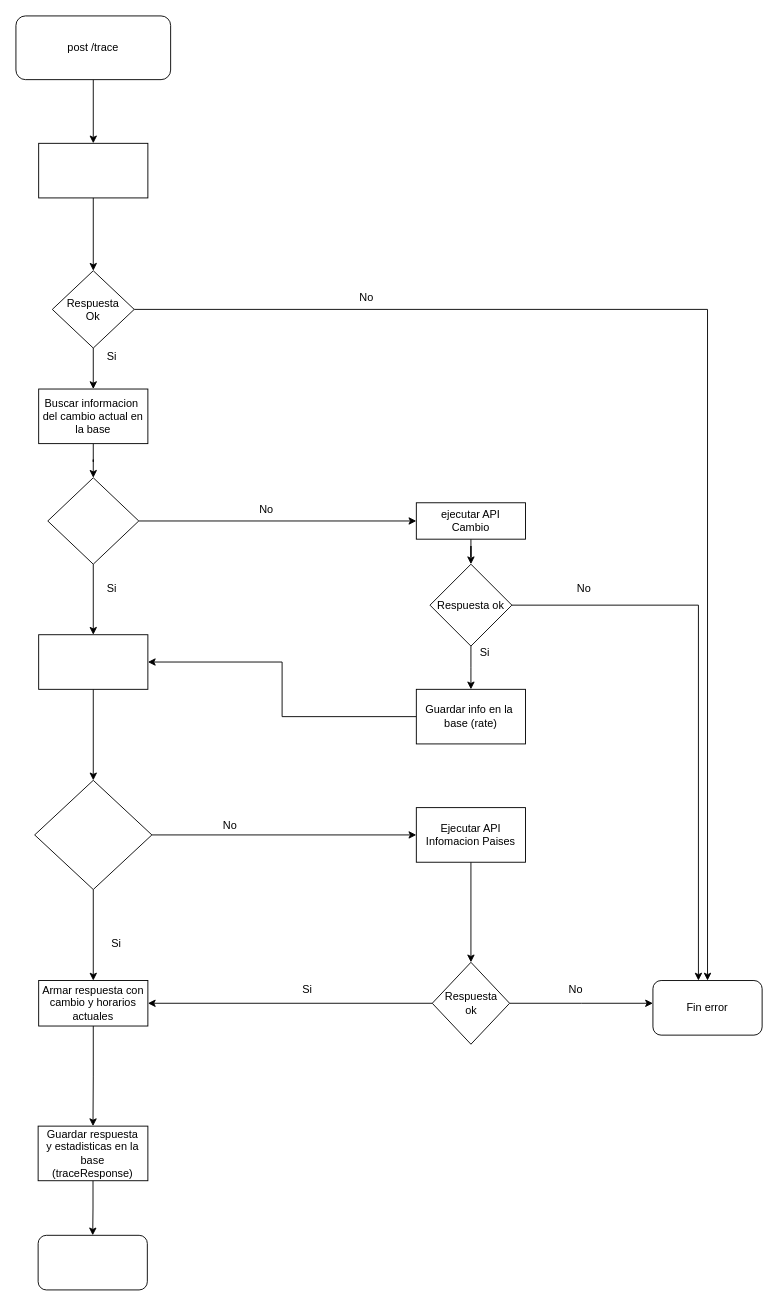
This 778x1306 diagram has some shape labels left out. The centre of each missing label's shape, as x and y in pixels:
"Buscar Pais en la base de datos (traceResponse)" belongs at [93,661].
"Ejecutar API Geolocalización de IPs" belongs at [93,170].
"Esta la infomacion?" belongs at [93,834].
"Esta la Informacion?" belongs at [93,520].
"FIN OK" belongs at [92,1262].
